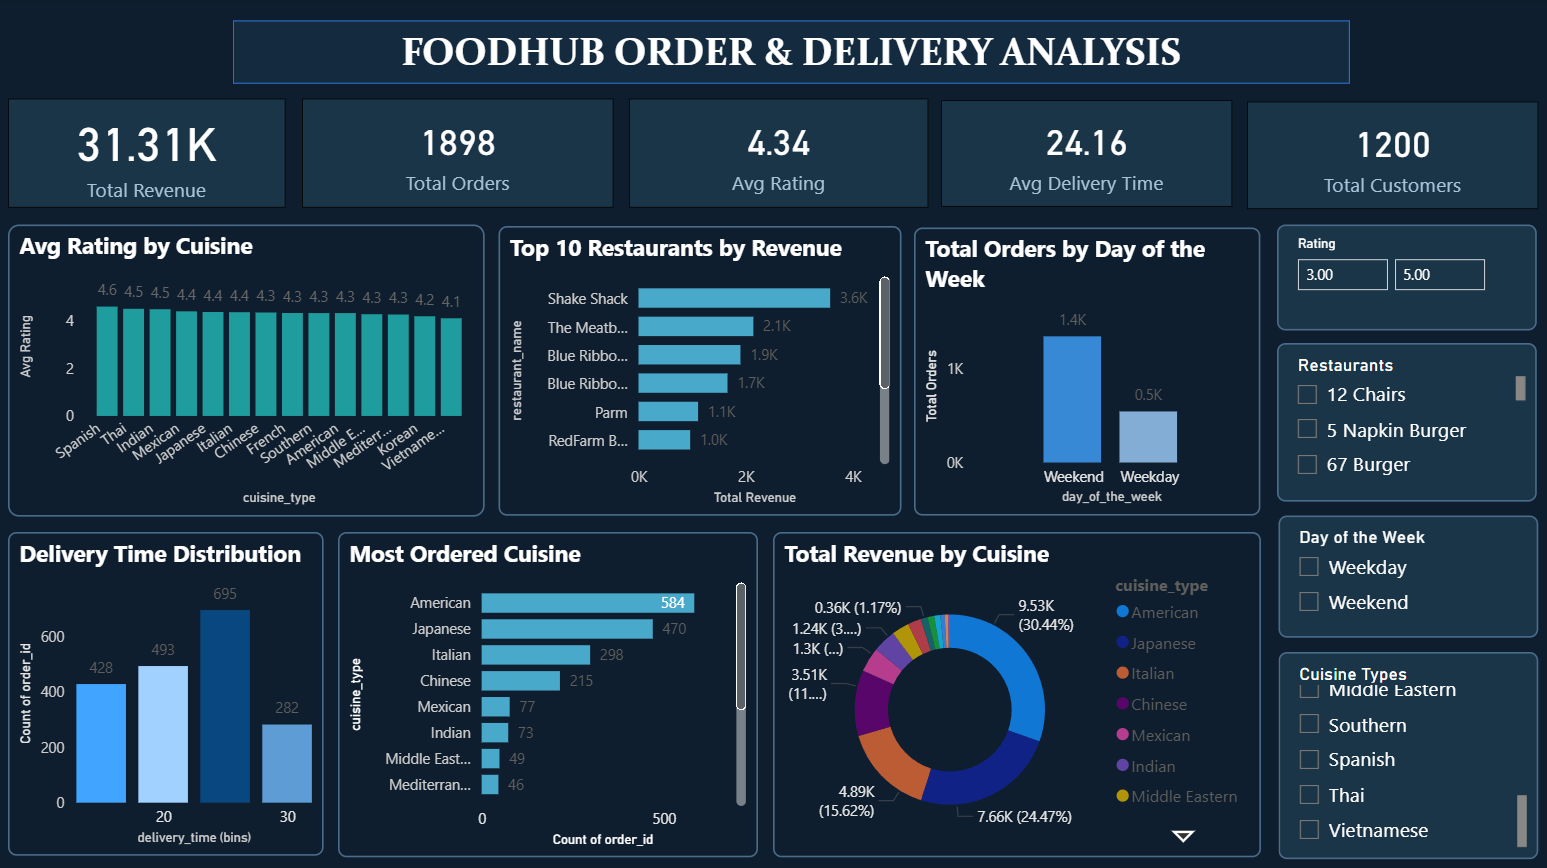

Layout of this report page (visuals, bound fields, positions):
{"tool":"powerbi","page":{"name":"Page 1","canvas":[1280,720],"ordinal":0},"visuals":[{"type":"card","fields":{"Values":["foodhub_cleaned.Total Revenue"]},"box":[10,83.3,228.3,90],"z":0},{"type":"card","fields":{"Values":["foodhub_cleaned.Total Orders"]},"box":[251.7,83.3,256.7,90],"z":1000},{"type":"card","fields":{"Values":["foodhub_cleaned.Avg Rating"]},"box":[521.7,83.3,246.7,90],"z":2000},{"type":"card","fields":{"Values":["foodhub_cleaned.Avg Delivery Time"]},"box":[778.5,84,239.7,87.7],"z":3000},{"type":"card","fields":{"Values":["foodhub_cleaned.Total Customers"]},"box":[1030,85,240,88.3],"z":4000},{"type":"columnChart","title":"Total Orders by Day of the Week","fields":{"Y":["foodhub_cleaned.Total Orders"],"Category":["foodhub_cleaned.day_of_the_week"]},"box":[757.1,189.3,284.7,237.7],"z":5000},{"type":"clusteredBarChart","title":"Top 10 Restaurants by Revenue","fields":{"Y":["foodhub_cleaned.Total Revenue"],"Category":["foodhub_cleaned.restaurant_name"]},"box":[413.4,187.8,333.1,239.2],"z":6000},{"type":"clusteredColumnChart","title":"Delivery Time Distribution","fields":{"Category":["foodhub_cleaned.delivery_time (bins)"],"Y":["CountNonNull(foodhub_cleaned.order_id)"]},"box":[10.6,439.1,258.9,269.5],"z":7000},{"type":"clusteredColumnChart","title":"Avg Rating by Cuisine","fields":{"Y":["foodhub_cleaned.Avg Rating"],"Category":["foodhub_cleaned.cuisine_type"]},"box":[9.1,186.2,392.2,240.8],"z":8000},{"type":"clusteredBarChart","title":"Most Ordered Cuisine","fields":{"Category":["foodhub_cleaned.cuisine_type"],"Y":["CountNonNull(foodhub_cleaned.order_id)"]},"box":[281.6,439.1,346.8,269.5],"z":9000},{"type":"donutChart","title":"Total Revenue by Cuisine","fields":{"Y":["foodhub_cleaned.Total Revenue"],"Category":["foodhub_cleaned.cuisine_type"]},"box":[640.5,439.1,401.3,269.5],"z":10000},{"type":"slicer","fields":{"Values":["foodhub_cleaned.cuisine_type"]},"box":[1056.2,538.2,214,170.6],"z":11000},{"type":"slicer","fields":{"Values":["foodhub_cleaned.day_of_the_week"]},"box":[1056.2,426.5,214,100.8],"z":12000},{"type":"slicer","fields":{"Values":["foodhub_cleaned.restaurant_name"]},"box":[1055.4,284.3,214.2,130.5],"z":13000},{"type":"slicer","fields":{"Values":["foodhub_cleaned.rating"]},"box":[1055.4,186.9,214.2,87.6],"z":14000},{"type":"textbox","box":[195,18.3,920,51.7],"z":15000}]}

Visuals, with their boxes in screenshot pixels (x1, y1, x2, y2), scaled from the page's 1280x720 canvas onto the 1547x868 screenshot:
card - foodhub_cleaned.Total Revenue: x1=12 y1=100 x2=288 y2=209
card - foodhub_cleaned.Total Orders: x1=304 y1=100 x2=614 y2=209
card - foodhub_cleaned.Avg Rating: x1=631 y1=100 x2=929 y2=209
card - foodhub_cleaned.Avg Delivery Time: x1=941 y1=101 x2=1231 y2=207
card - foodhub_cleaned.Total Customers: x1=1245 y1=102 x2=1535 y2=209
"Total Orders by Day of the Week" columnChart: x1=915 y1=228 x2=1259 y2=515
"Top 10 Restaurants by Revenue" clusteredBarChart: x1=500 y1=226 x2=902 y2=515
"Delivery Time Distribution" clusteredColumnChart: x1=13 y1=529 x2=326 y2=854
"Avg Rating by Cuisine" clusteredColumnChart: x1=11 y1=224 x2=485 y2=515
"Most Ordered Cuisine" clusteredBarChart: x1=340 y1=529 x2=759 y2=854
"Total Revenue by Cuisine" donutChart: x1=774 y1=529 x2=1259 y2=854
slicer - foodhub_cleaned.cuisine_type: x1=1277 y1=649 x2=1535 y2=854
slicer - foodhub_cleaned.day_of_the_week: x1=1277 y1=514 x2=1535 y2=636
slicer - foodhub_cleaned.restaurant_name: x1=1276 y1=343 x2=1534 y2=500
slicer - foodhub_cleaned.rating: x1=1276 y1=225 x2=1534 y2=331
textbox: x1=236 y1=22 x2=1348 y2=84
